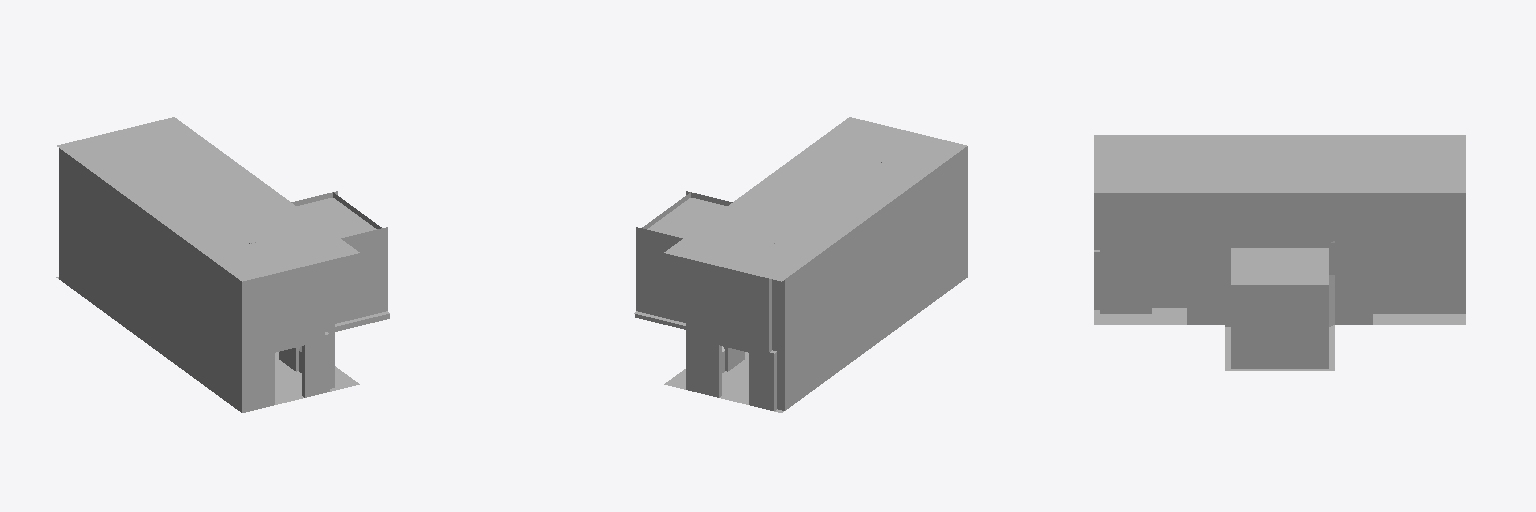
Rendered from LC_room2_elevator.obj.
3 renders of one model, left to right at view 1: azimuth 30°, elevation 25°; view 2: azimuth 150°, elevation 25°; view 3: azimuth 270°, elevation 25°, orthographic.
Visible parts, largest first — view 1: LC_room2_elevator; view 2: LC_room2_elevator; view 3: LC_room2_elevator.
Part boxes in pixels (x1,y1,x2,y2): LC_room2_elevator: (56,117,389,412); LC_room2_elevator: (634,117,967,412); LC_room2_elevator: (1094,135,1465,370).
Bounding box in the file's own units: 13.6 × 8.33 × 20.48.